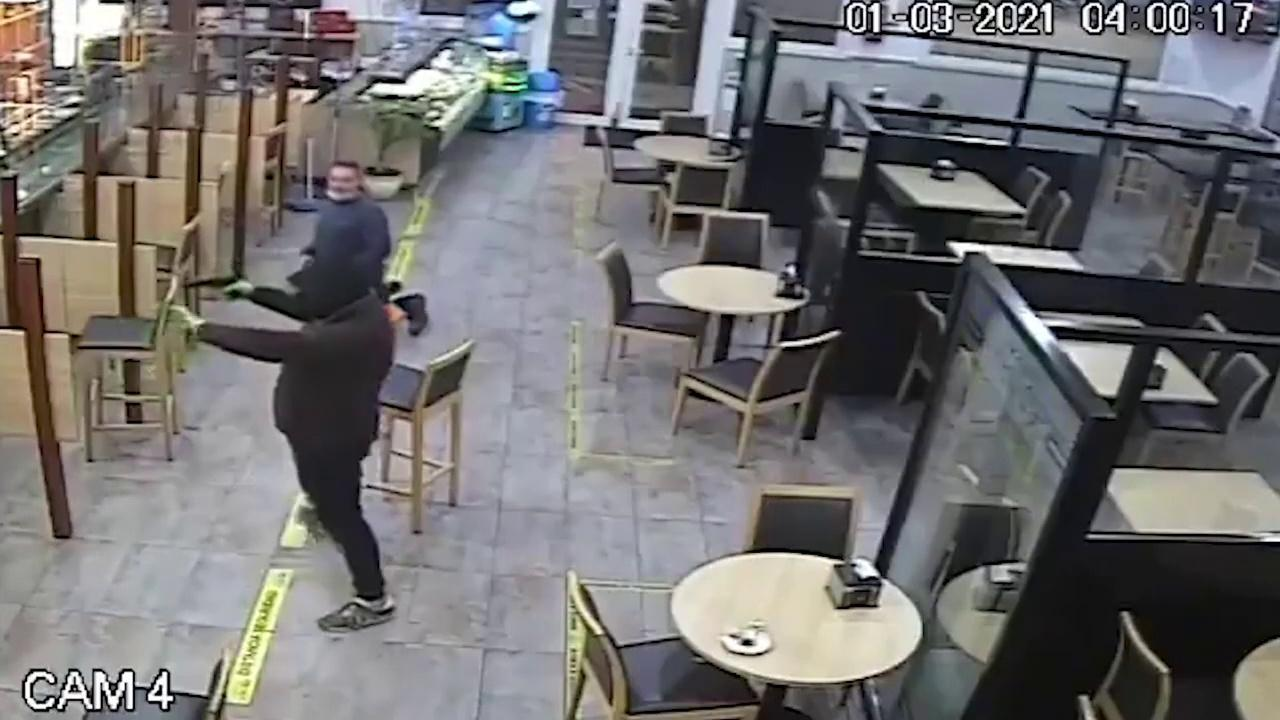Guns: (161, 256, 278, 312)
